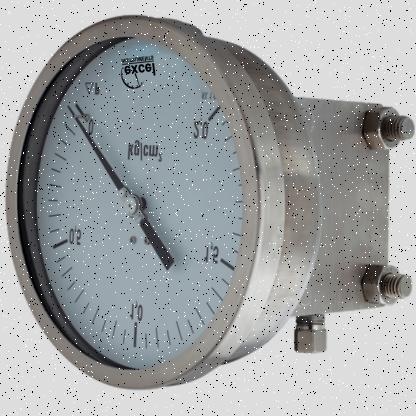needle: (67, 105, 125, 191)
